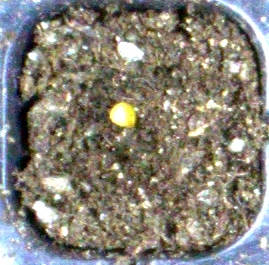chilli seed: (108, 101, 135, 127)
